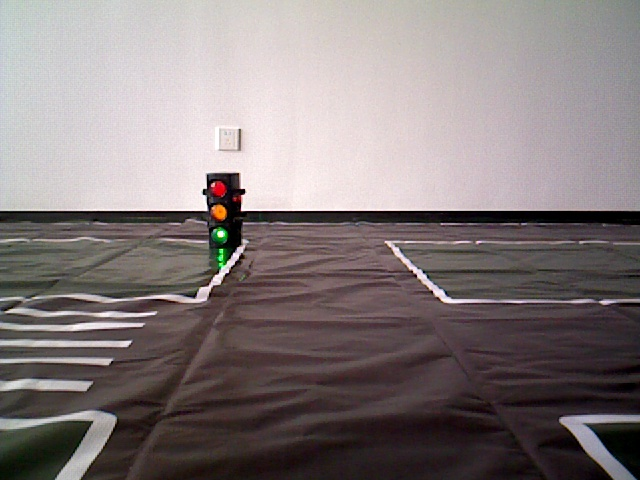green: (207, 175, 240, 238)
